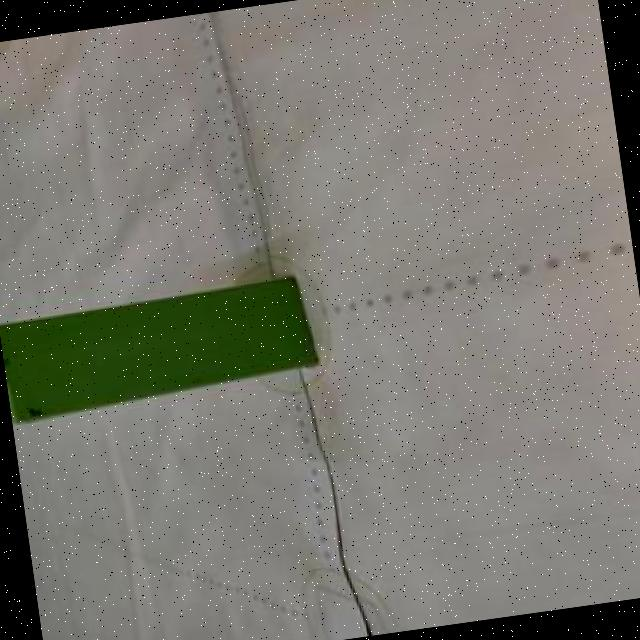greenbox: (0, 269, 325, 430)
